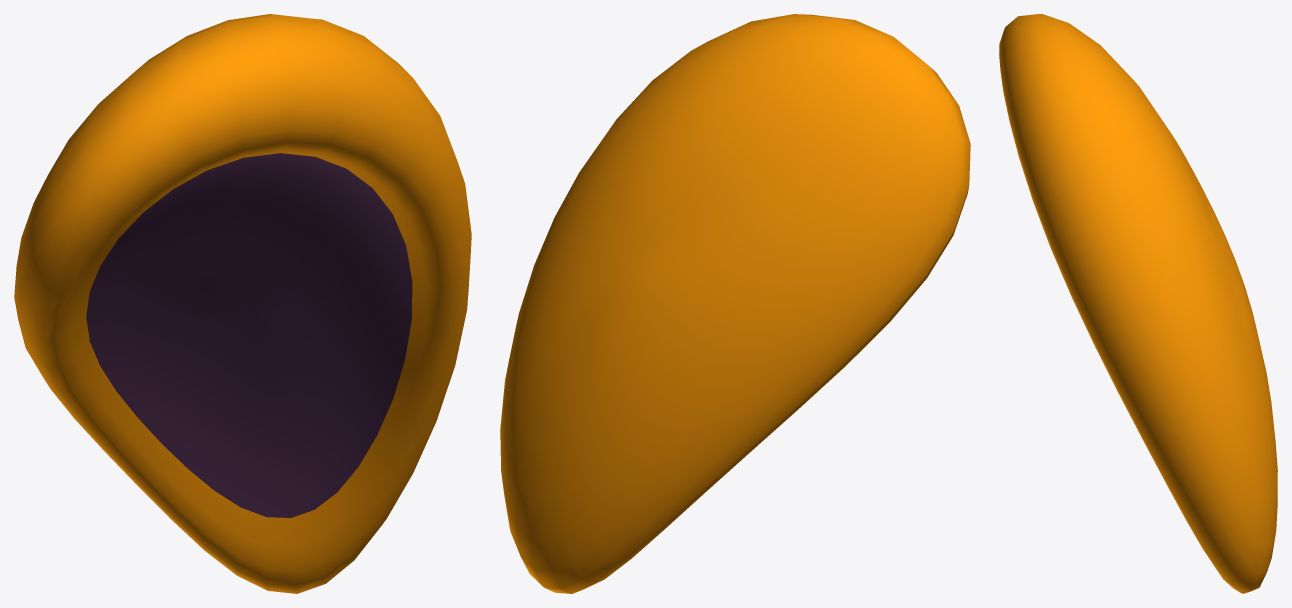
File: rabbit.glb
The picture shows the model from 3 angles, left to right: view 1: azimuth 30°, elevation 25°; view 2: azimuth 150°, elevation 25°; view 3: azimuth 270°, elevation 25°; orthographic projection. The views are drawn at different scales.
Visible parts, largest first — view 1: Sphere001; view 2: Sphere001; view 3: Sphere001.
Part boxes in pixels (x1,y1,x2,y2): Sphere001: [14, 14, 471, 593]; Sphere001: [500, 14, 970, 593]; Sphere001: [999, 14, 1277, 593].
Bounding box in the file's own units: 0.4035 × 0.5403 × 0.2774.
